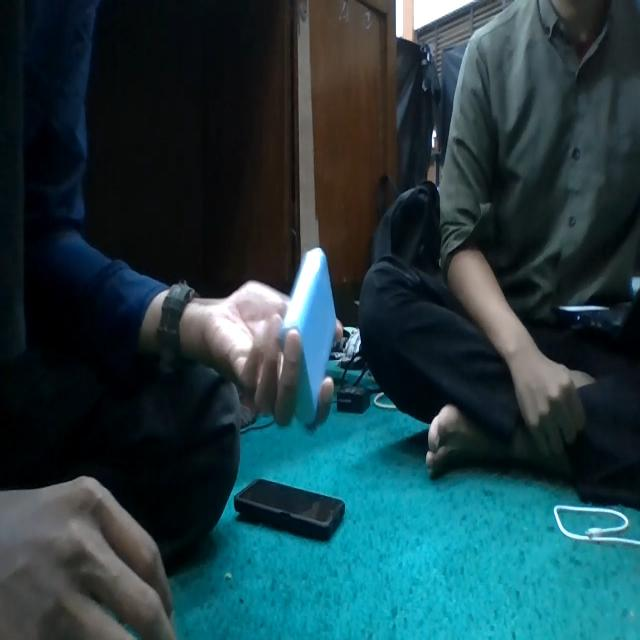Powerbank: (280, 247, 336, 425)
